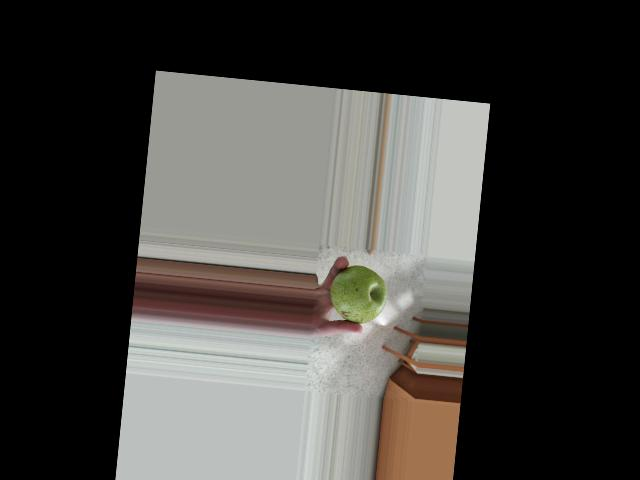apple: (326, 260, 391, 326)
